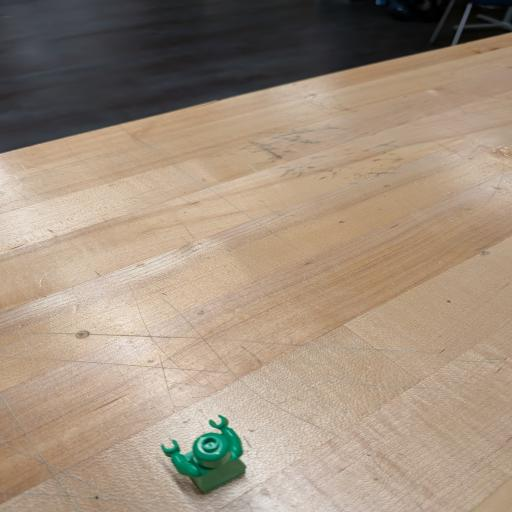Minifig: (161, 415, 245, 493)
